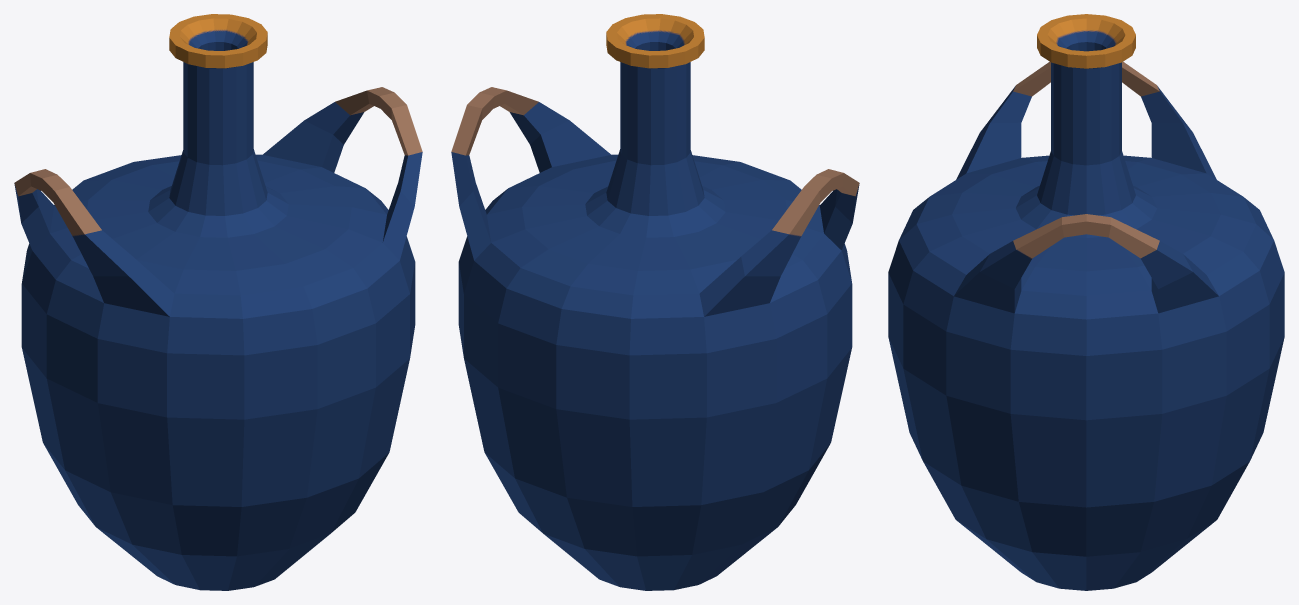
Rendered from PotThree.fbx.
3 views of the same model, side by side, from view 1: azimuth 30°, elevation 25°; view 2: azimuth 150°, elevation 25°; view 3: azimuth 270°, elevation 25° (orthographic).
Visible parts, largest first — view 1: Plane; view 2: Plane; view 3: Plane.
Part boxes in pixels (bbox=[...]): Plane: bbox=[14, 14, 422, 590]; Plane: bbox=[451, 14, 859, 590]; Plane: bbox=[888, 14, 1284, 590].
Bounding box in the file's own units: 1.15 × 1.64 × 1.12.
